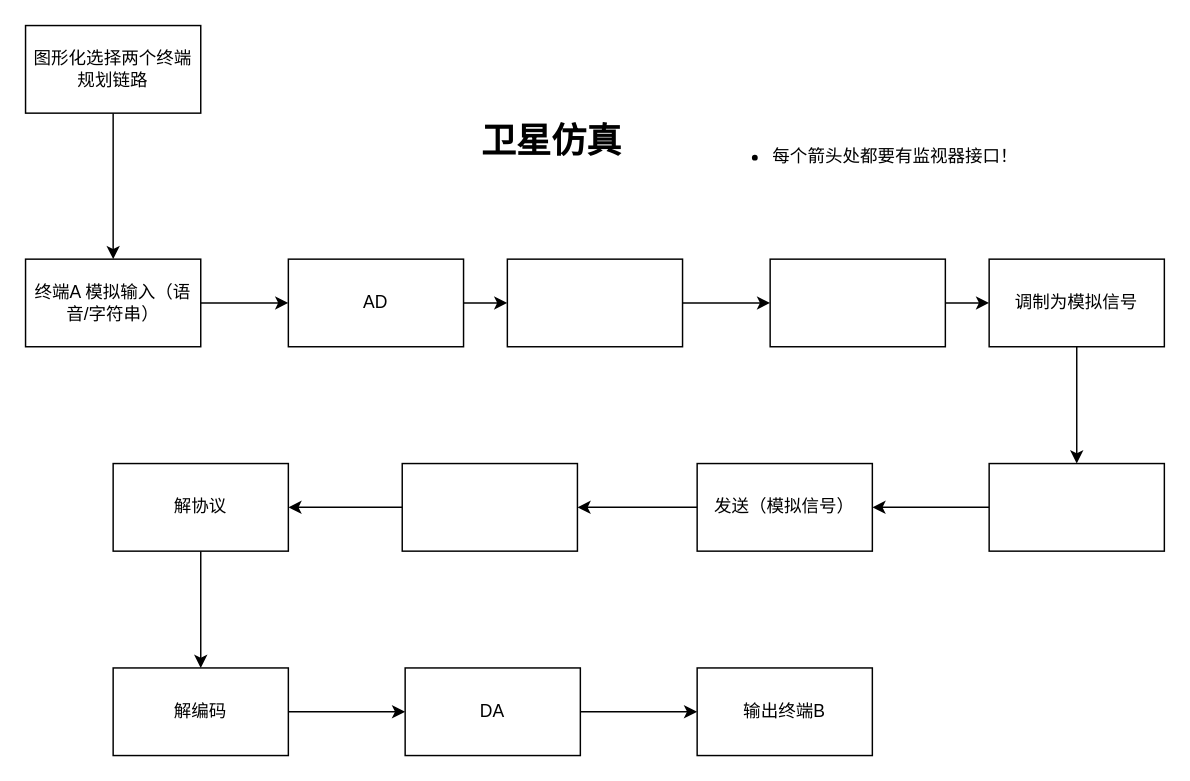
Some shapes in this 1190 by 781 pixel diagram are drawn without their labels. The centre of each missing label's shape, as x and y in pixels:
"协议封装" goes at point 857,302.
"数字信号处理（Turbo码）" goes at point 594,302.
"解调" goes at point 489,506.
"选择星地 星星？" goes at point 1076,506.
